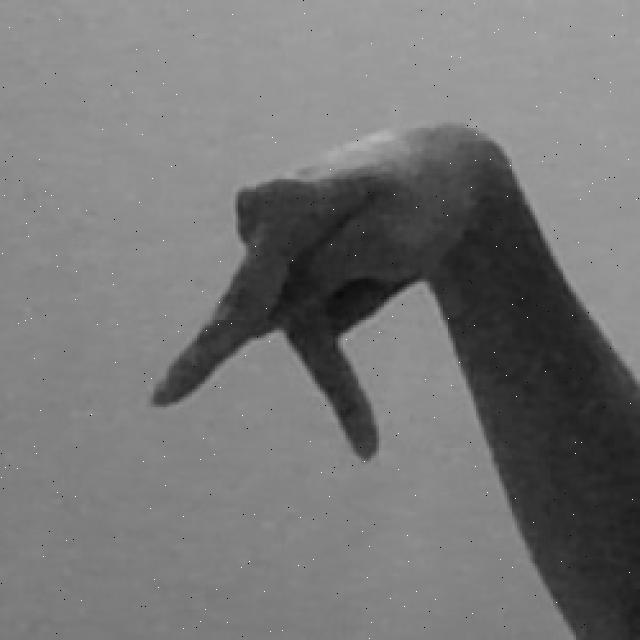P: (143, 110, 640, 638)
